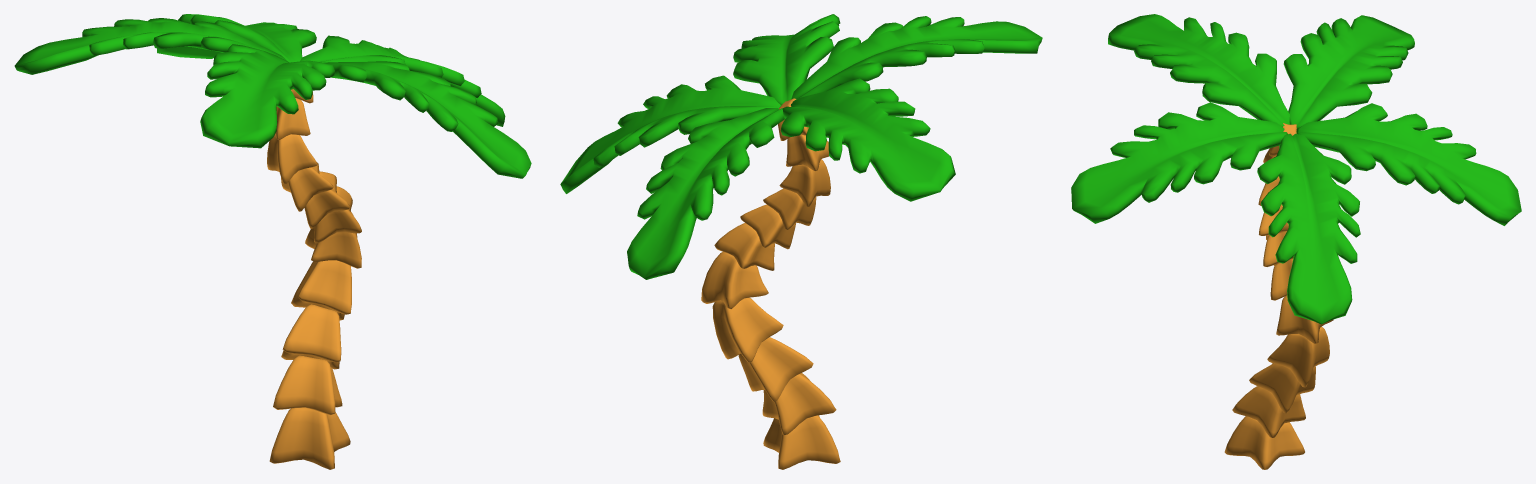
Rendered from Palmier_1.fbx.
3 renders of one model, left to right at view 1: azimuth 30°, elevation 25°; view 2: azimuth 150°, elevation 25°; view 3: azimuth 270°, elevation 25°, orthographic. The views are drawn at different scales.
Visible parts, largest first — view 1: Palmier 1_LOD0; view 2: Palmier 1_LOD0; view 3: Palmier 1_LOD0.
Part boxes in pixels (left/top/right/bottom): Palmier 1_LOD0: left=14, top=14, right=531, bottom=469; Palmier 1_LOD0: left=560, top=14, right=1042, bottom=469; Palmier 1_LOD0: left=1071, top=14, right=1521, bottom=469.
Size of the model in its own units: 1333 by 1277 by 1374.
